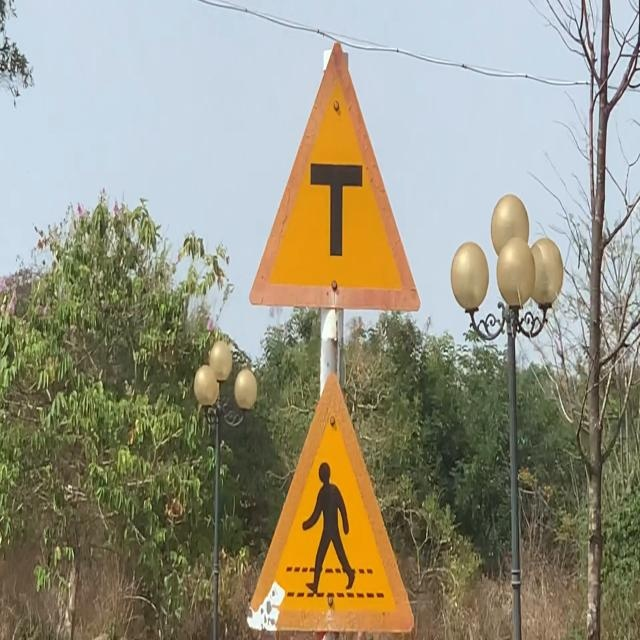bien_nguy_hiem: (248, 38, 422, 314), (242, 364, 417, 637)
